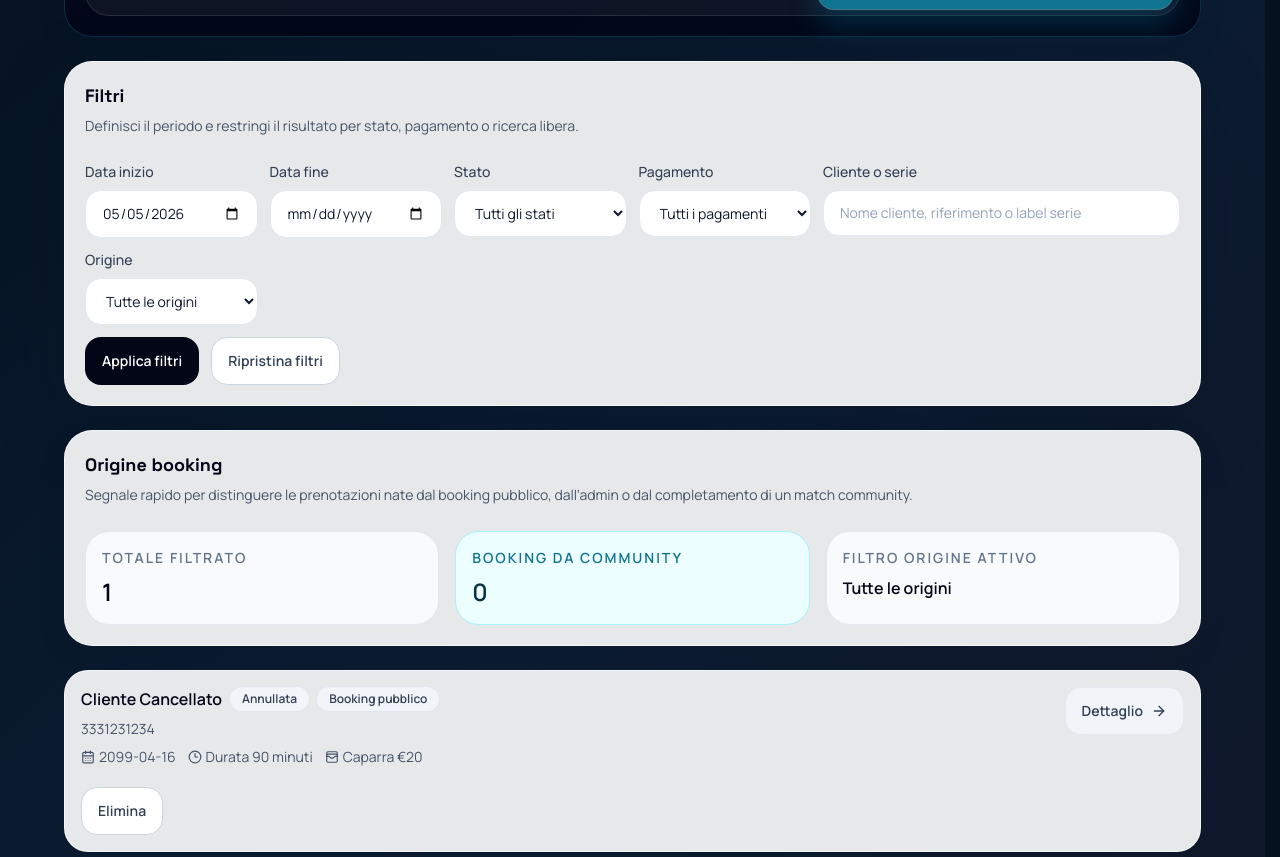
Test: AdminBookingsPage › deletes a cancelled single booking from the list
(page scrolled)
Check: the text "Cliente Cancellato" is shown, box [81,687,222,711]
Click the button "Elimina" at (122, 811), box [81,787,163,835]
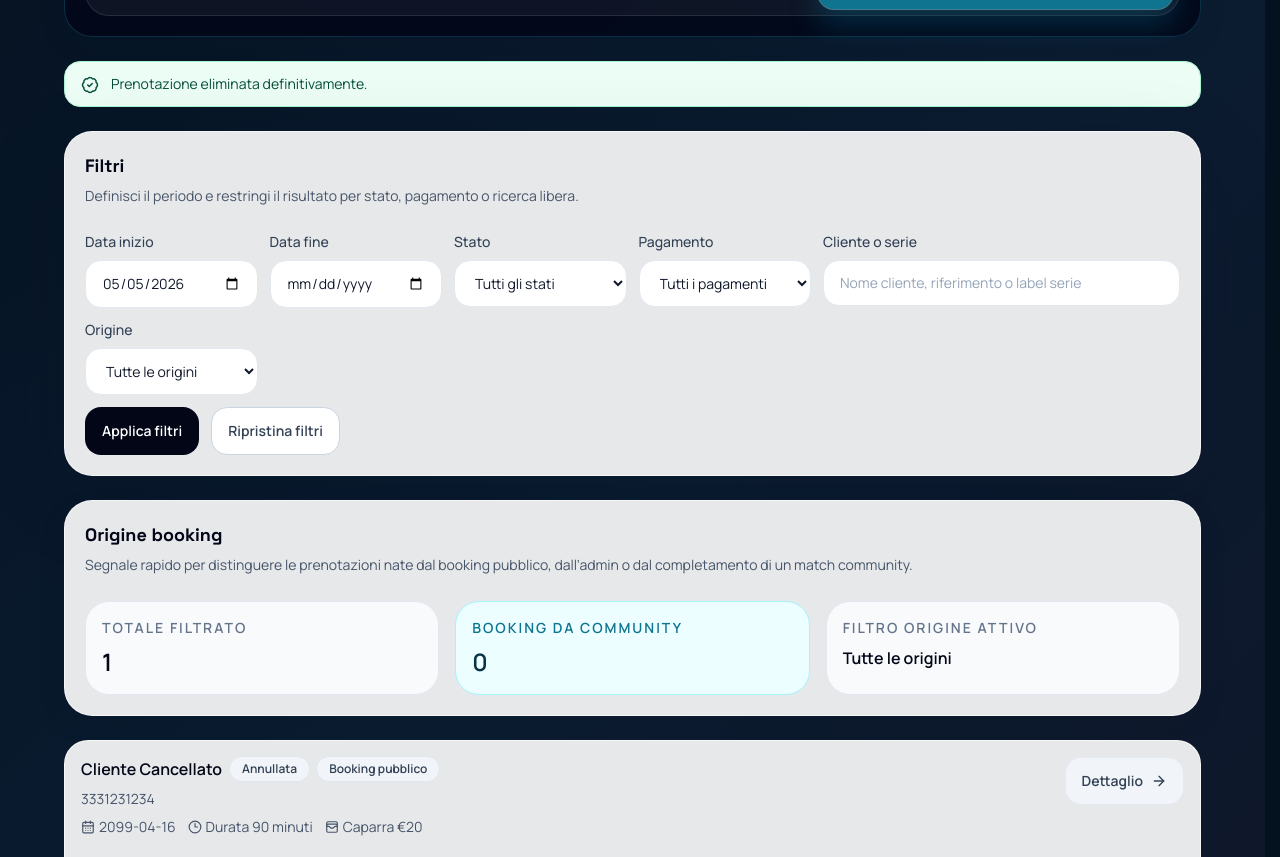
Check: the text "Prenotazione eliminata definitivamente." is shown, box [111,74,367,94]
